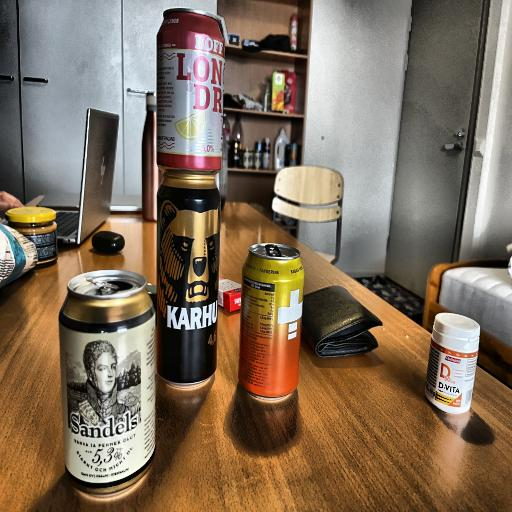karhu: (154, 178, 220, 391)
koff: (144, 4, 231, 172)
sandels: (48, 260, 157, 506)
